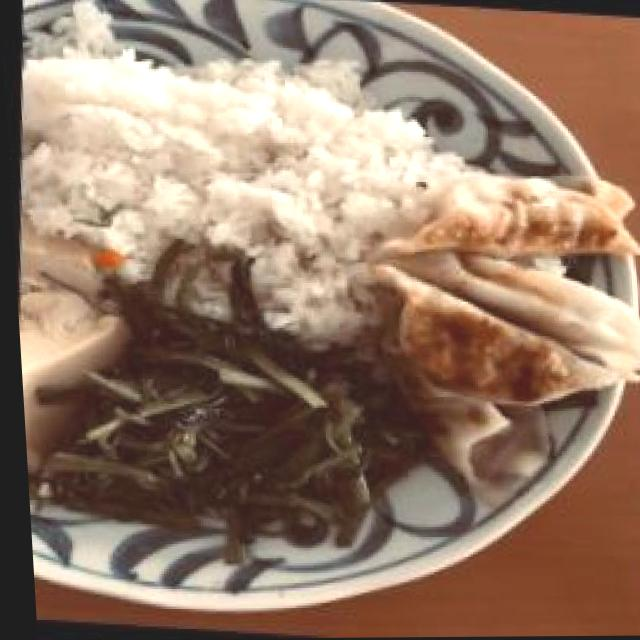fried_dumplings: (388, 176, 622, 396)
rice: (7, 51, 408, 276)
water_spinach: (103, 326, 357, 520)
